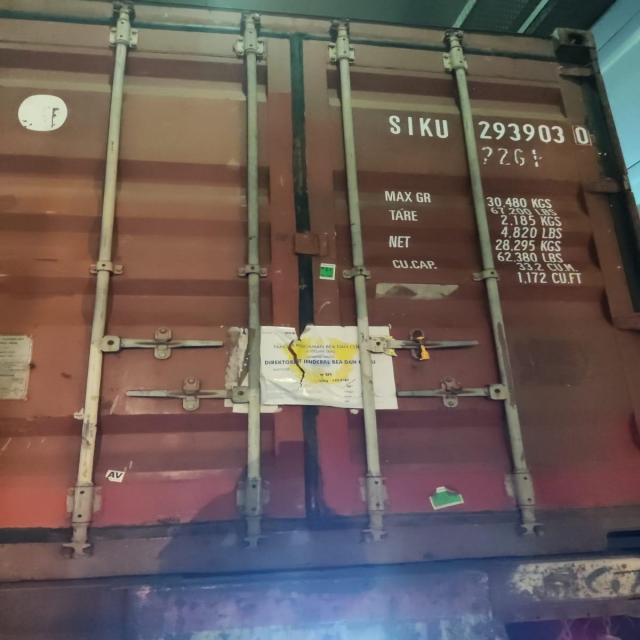seal: (414, 331, 436, 365)
